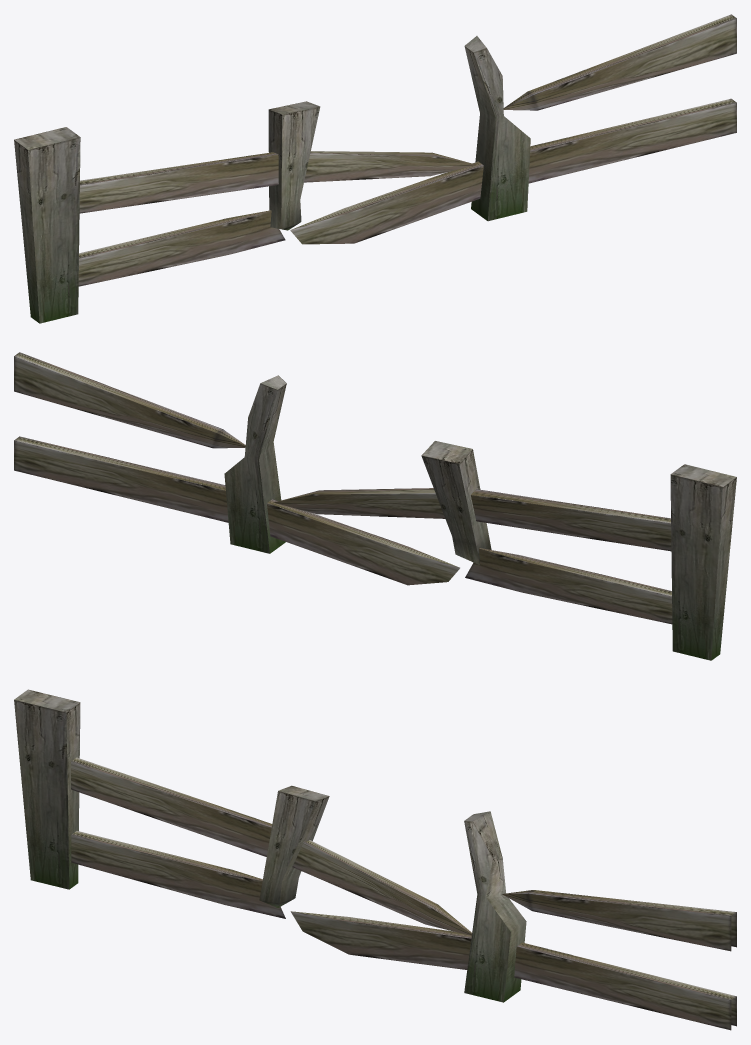
File: pir_m_prp_fnc_wood20_burned.fbx
3 renders of one model, top to bottom at view 1: azimuth 30°, elevation 25°; view 2: azimuth 150°, elevation 25°; view 3: azimuth 330°, elevation 25°, orthographic.
Visible parts, largest first — view 1: polySurface3, post3; view 2: polySurface3, post3; view 3: polySurface3, post3.
Part boxes in pixels (x1=…): polySurface3: x1=78, y1=14, x2=736, y2=286; post3: x1=14, y1=36, x2=530, y2=323; polySurface3: x1=14, y1=352, x2=672, y2=624; post3: x1=224, y1=375, x2=736, y2=660; polySurface3: x1=71, y1=757, x2=736, y2=1030; post3: x1=14, y1=689, x2=526, y2=1002.
Bounding box in the file's own units: 2058 × 494 × 117.
Materials: 1 (1 with a texture image).
